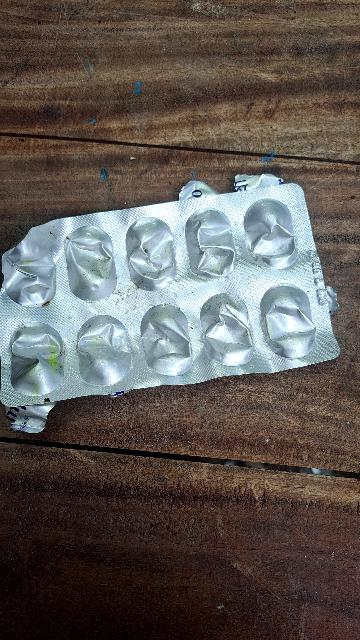medicine: (0, 179, 352, 409)
